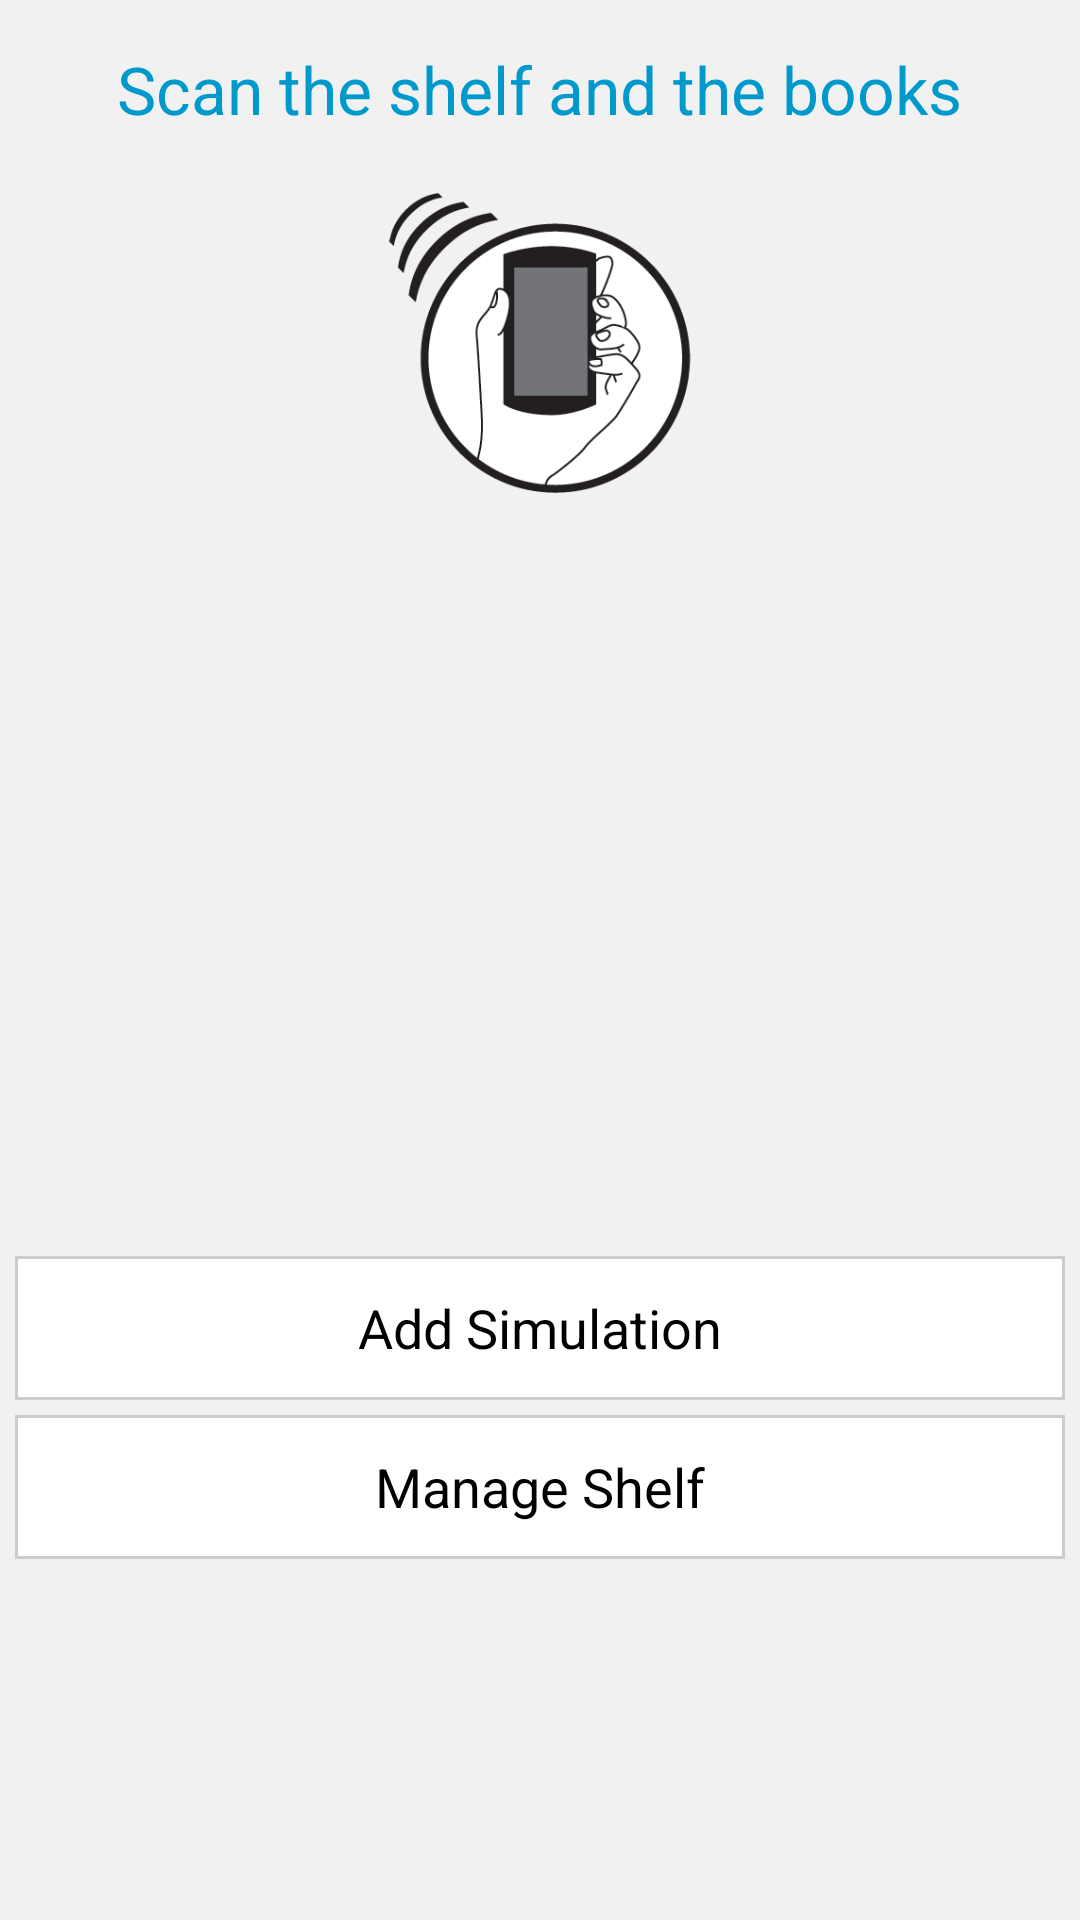

Icon click points for this 1080px x 1920px phone screenshot, format (x,y):
nfcscan: (540,343)
